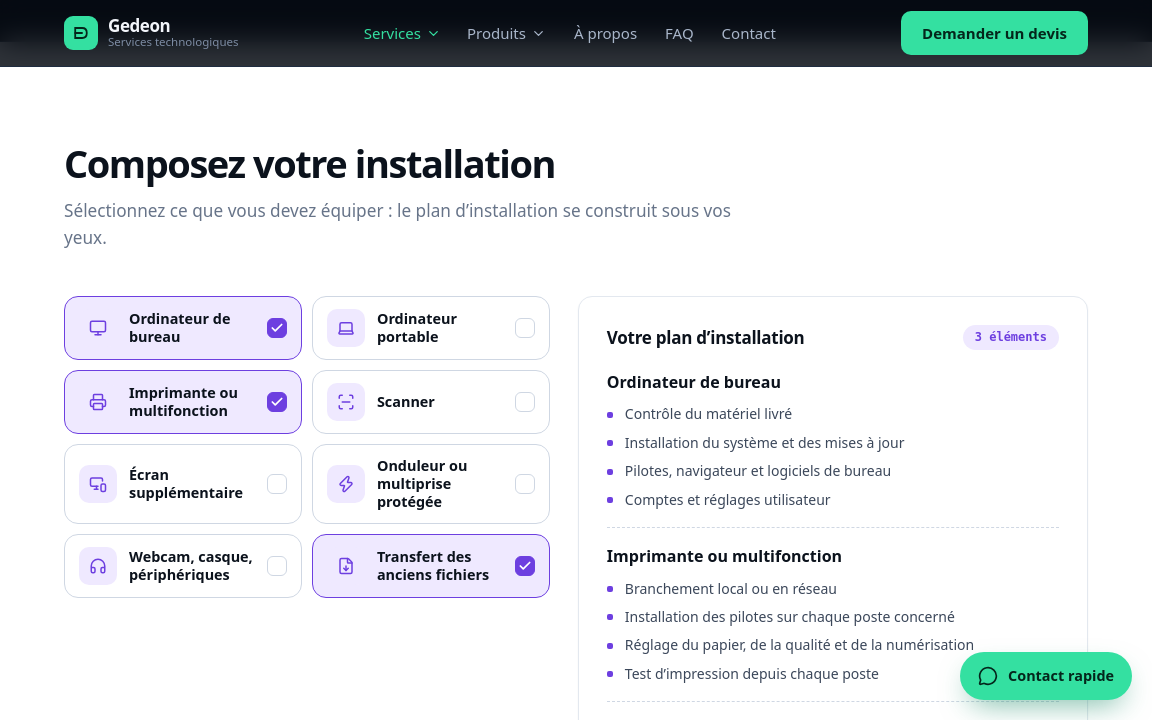
Scenario: dedicated service pages › installation: the plan follows the selected equipment
This screenshot has width=1152, height=720.
(page scrolled)
Click the button "Scanner".
click(431, 402)  # box [312,370,550,434]
(page scrolled)
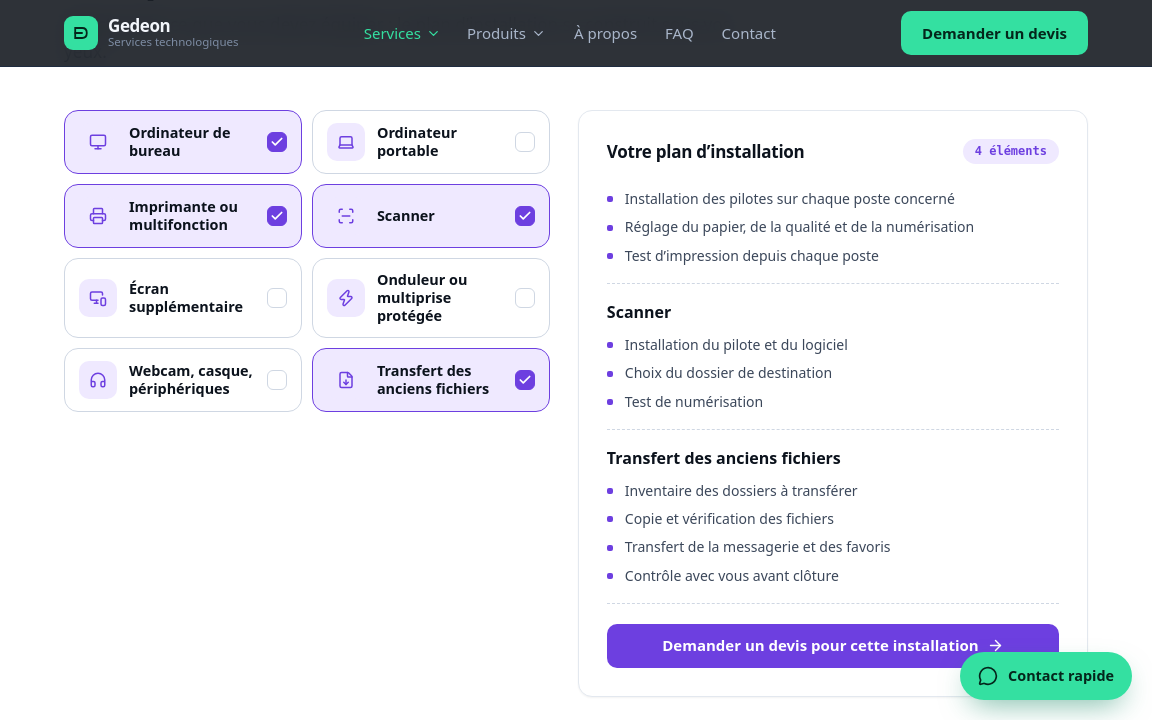
Check: the list item "Test de numérisation" is shown, box [625,392,763,410]
